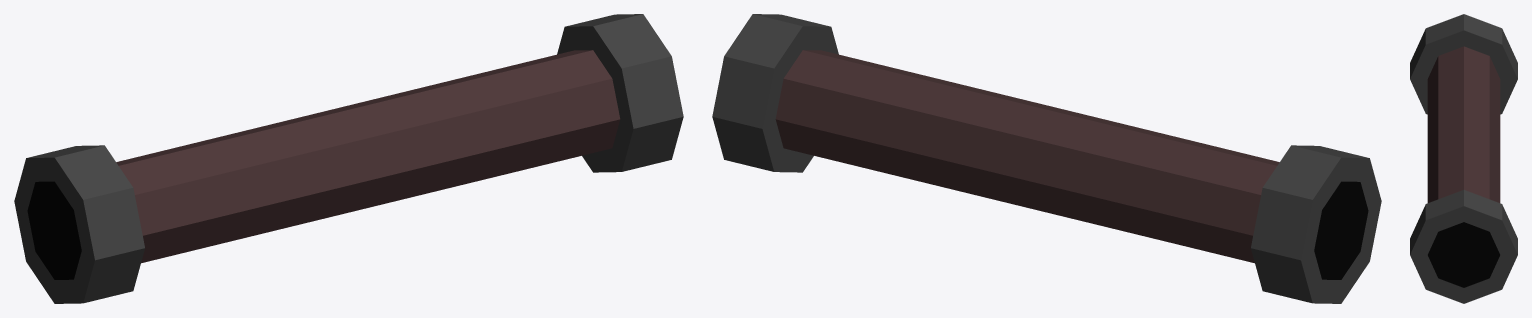
Rendered from Pipe_I.fbx.
3 views of the same model, side by side, from view 1: azimuth 30°, elevation 25°; view 2: azimuth 150°, elevation 25°; view 3: azimuth 270°, elevation 25° (orthographic). The views are drawn at different scales.
Visible parts, largest first — view 1: I; view 2: I; view 3: I.
Boxes of the visible parts, x1,y1,x2,y2 form: I: (14,14,683,303); I: (712,14,1381,303); I: (1410,14,1517,303).
Bounding box in the file's own units: 99.7 × 23.69 × 23.69.
